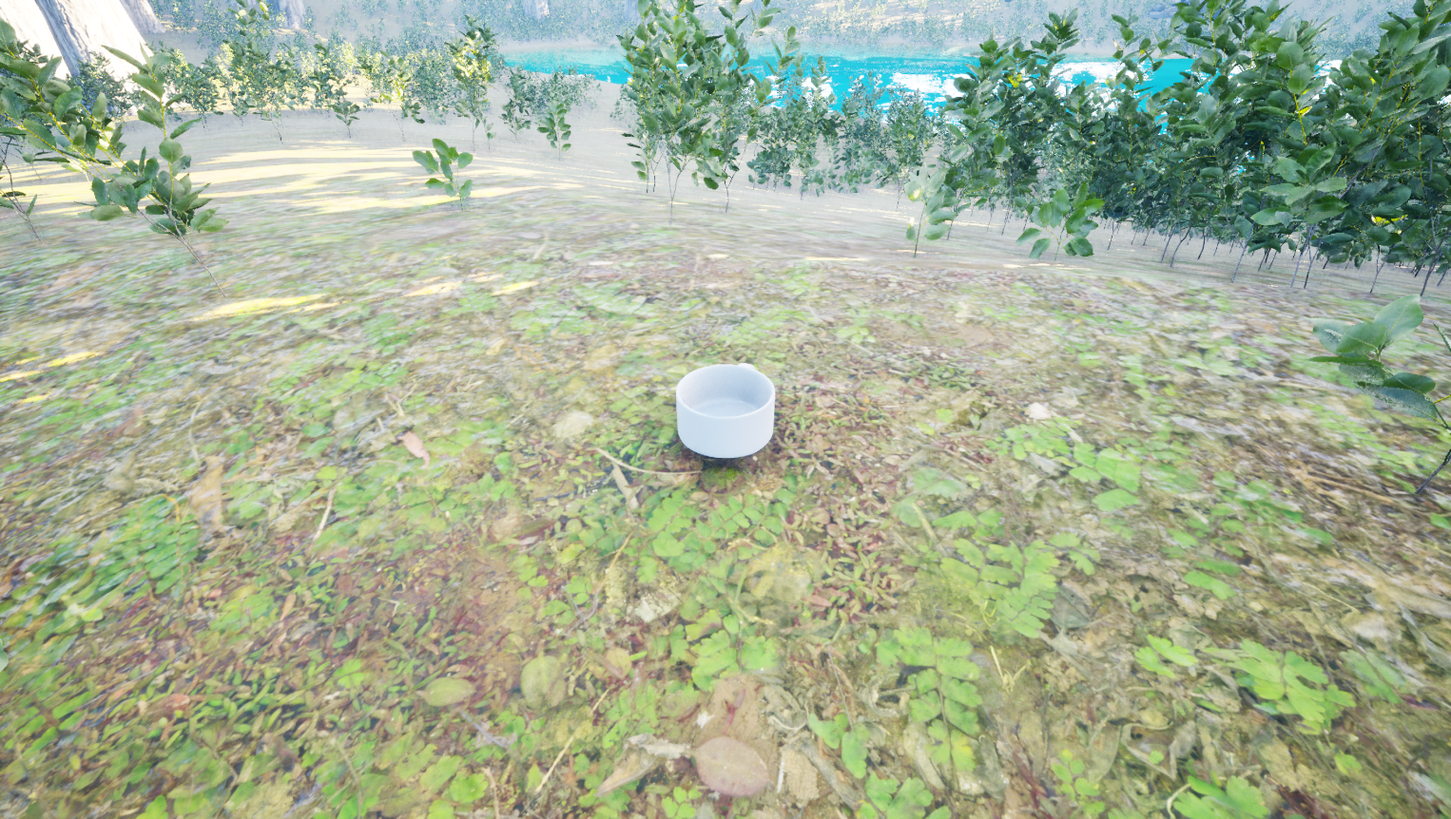Teacup: (658, 351, 807, 472)
